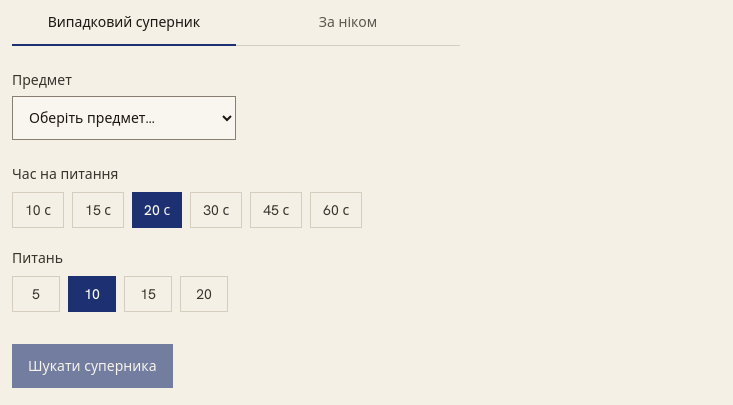
Test case: LivePlaySection › asks for a username only when challenging somebody by name
Expected: the field labelled "Нік суперника" is not shown
Click the radio button labelled "За ніком" at (348, 29), box [236,12,460,46]
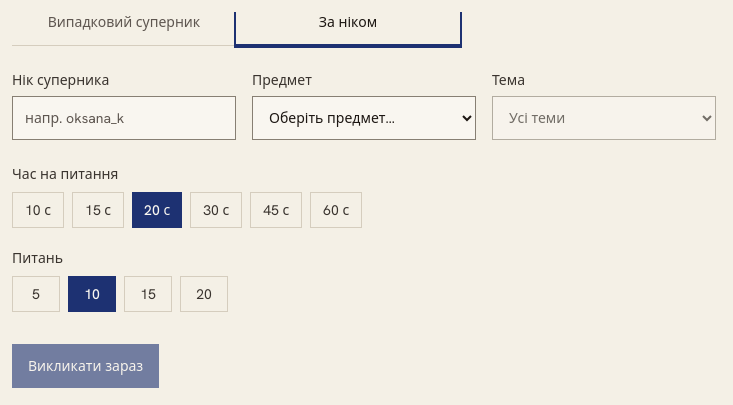
Expected: the button "Викликати зараз" is disabled, [12,344,159,388]
Expected: the field labelled "Нік суперника" is shown, [12,96,236,140]
